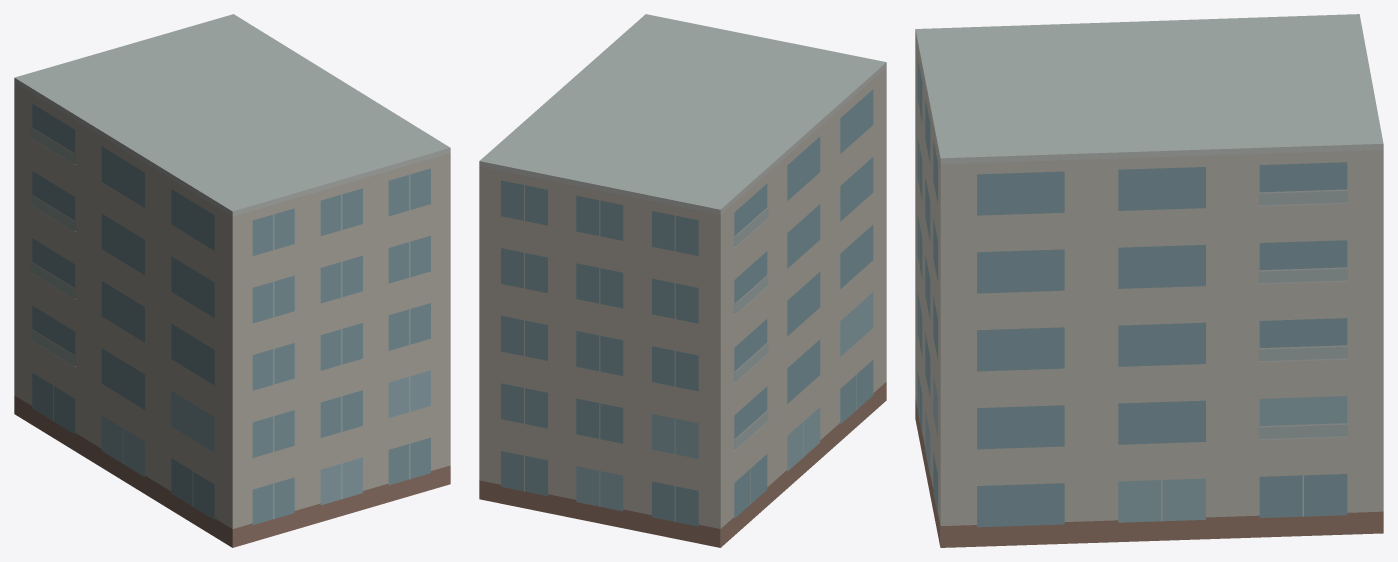
The model's file is survey-upis-32937630.glb.
3 renders of one model, left to right at view 1: azimuth 30°, elevation 25°; view 2: azimuth 150°, elevation 25°; view 3: azimuth 270°, elevation 25°, orthographic. The views are drawn at different scales.
Visible parts, largest first — view 1: survey-upis-32937630.tmp; view 2: survey-upis-32937630.tmp; view 3: survey-upis-32937630.tmp.
Part boxes in pixels (bbox=[...]): survey-upis-32937630.tmp: bbox=[14, 14, 450, 547]; survey-upis-32937630.tmp: bbox=[479, 14, 886, 547]; survey-upis-32937630.tmp: bbox=[915, 14, 1383, 547].
Bounding box in the file's own units: 12.48 × 15.7 × 17.11.
